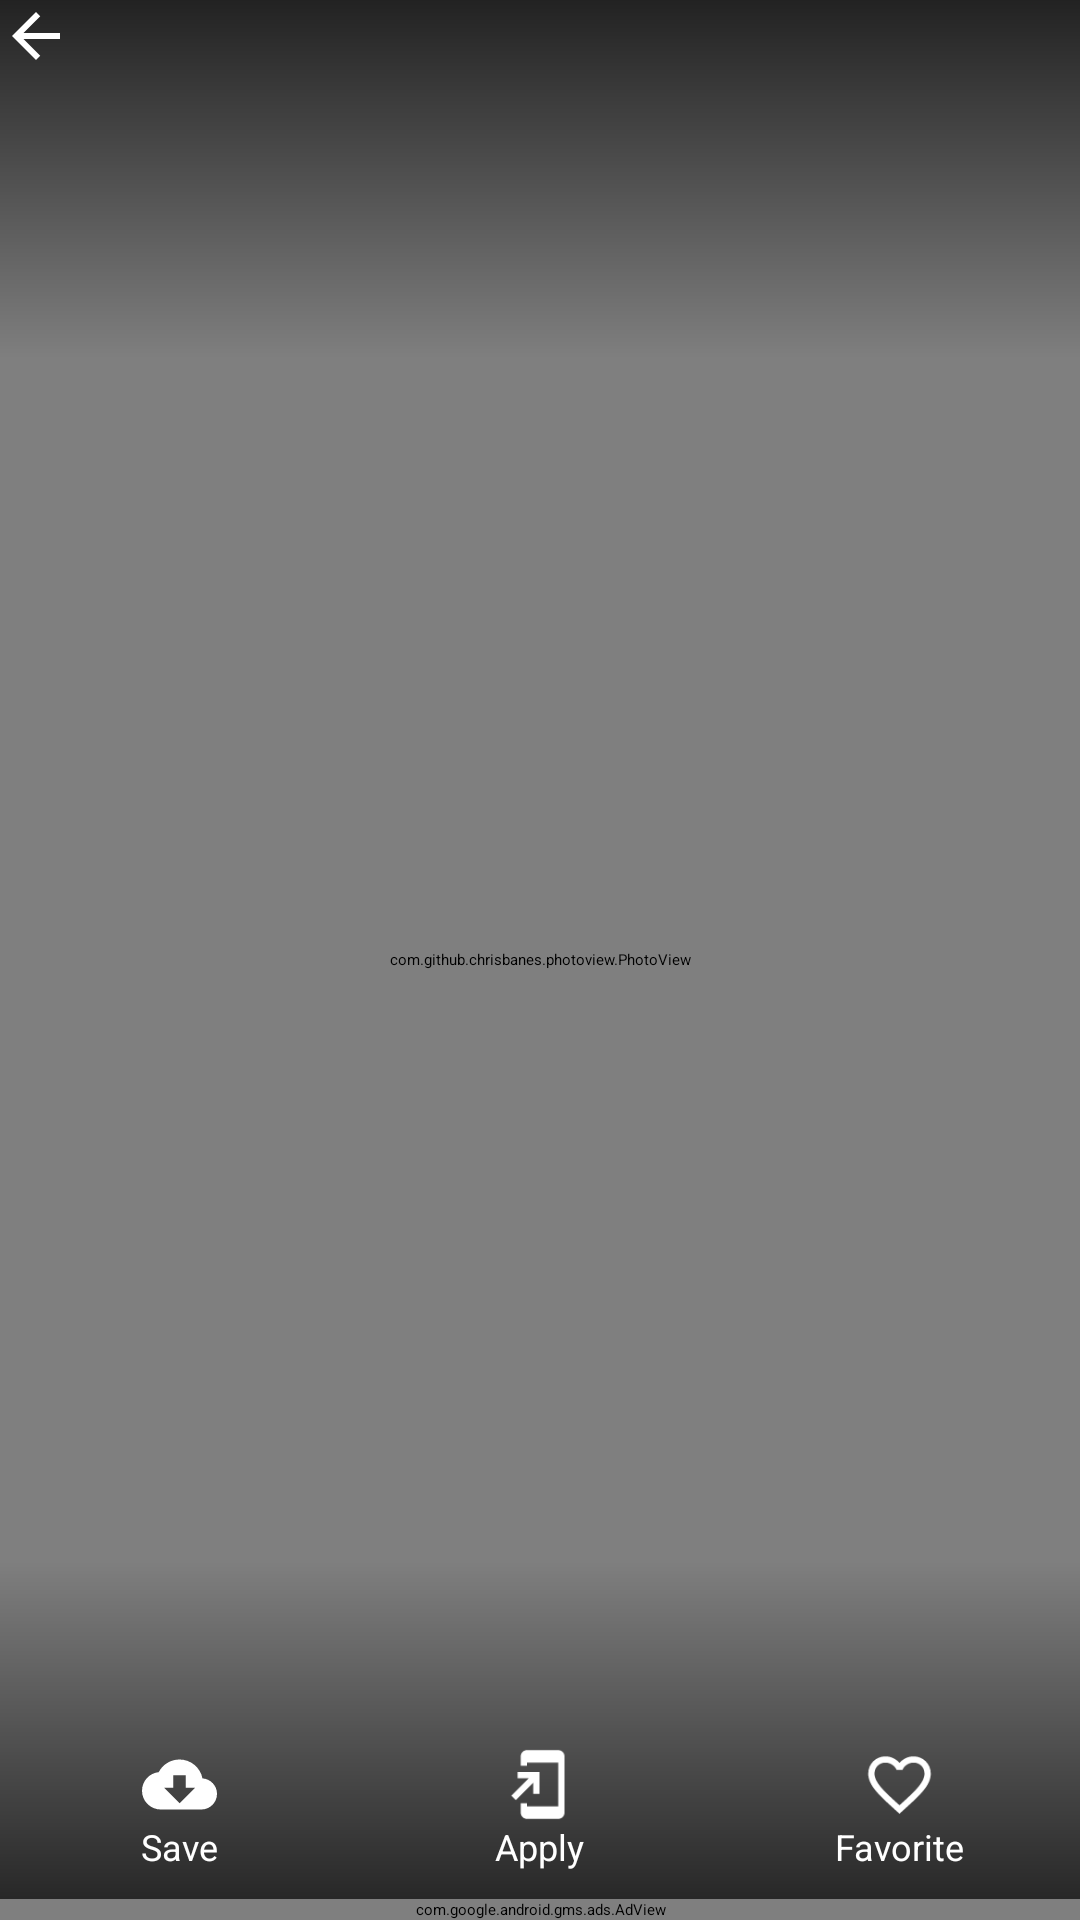

Icon bounding boxes for this 1080*1920 phone screenshot, format bbox=[x1, y1, x2, y2]:
add to home screen: bbox=[511, 1750, 565, 1819]
cloud download: bbox=[142, 1759, 217, 1810]
